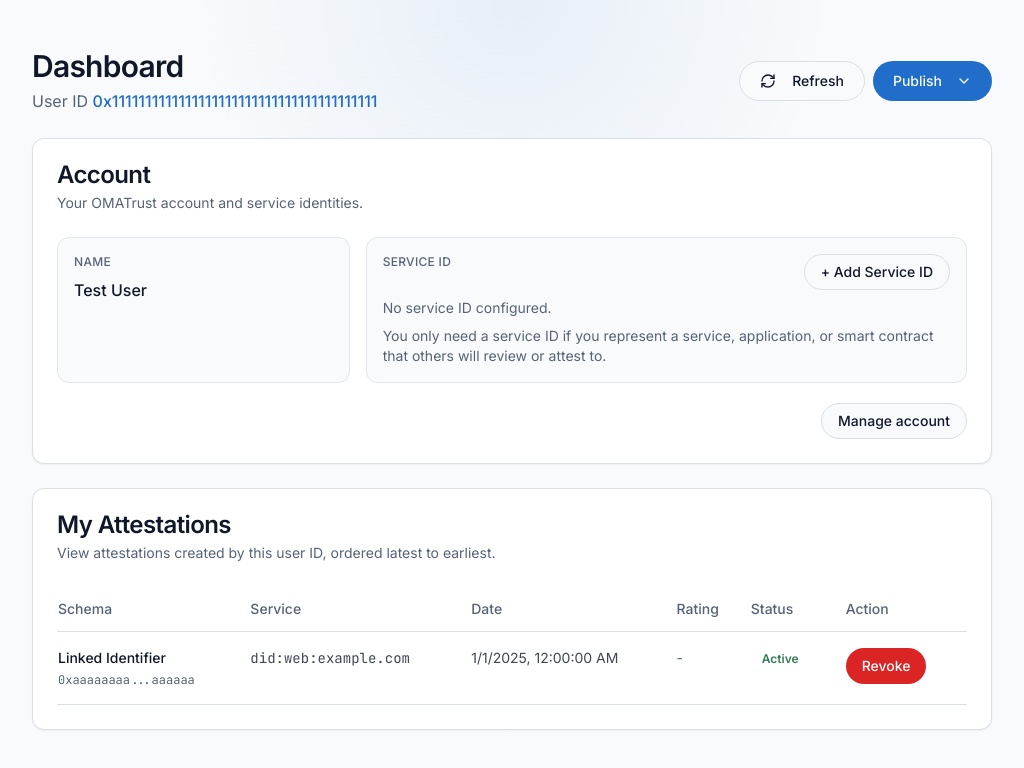
Dashboard Page › closes confirmation dialog when Cancel is clicked
Click the button "Revoke": (886,666) [846,648,926,684]
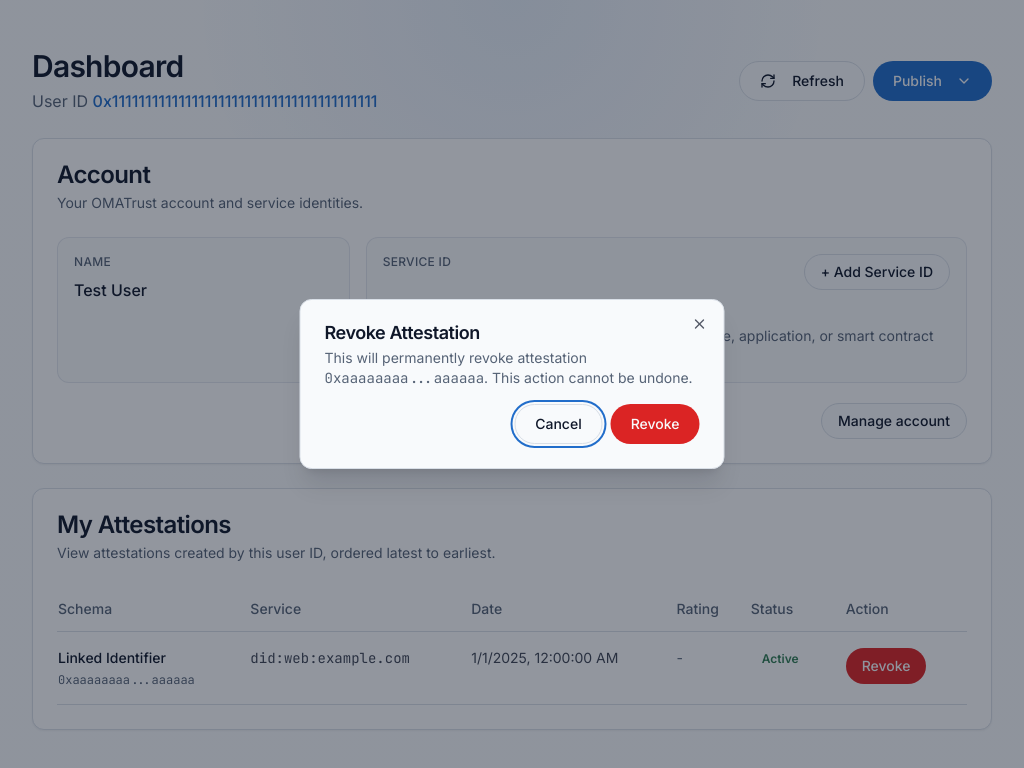
Click the button "Cancel": (558,424) [514,404,603,444]
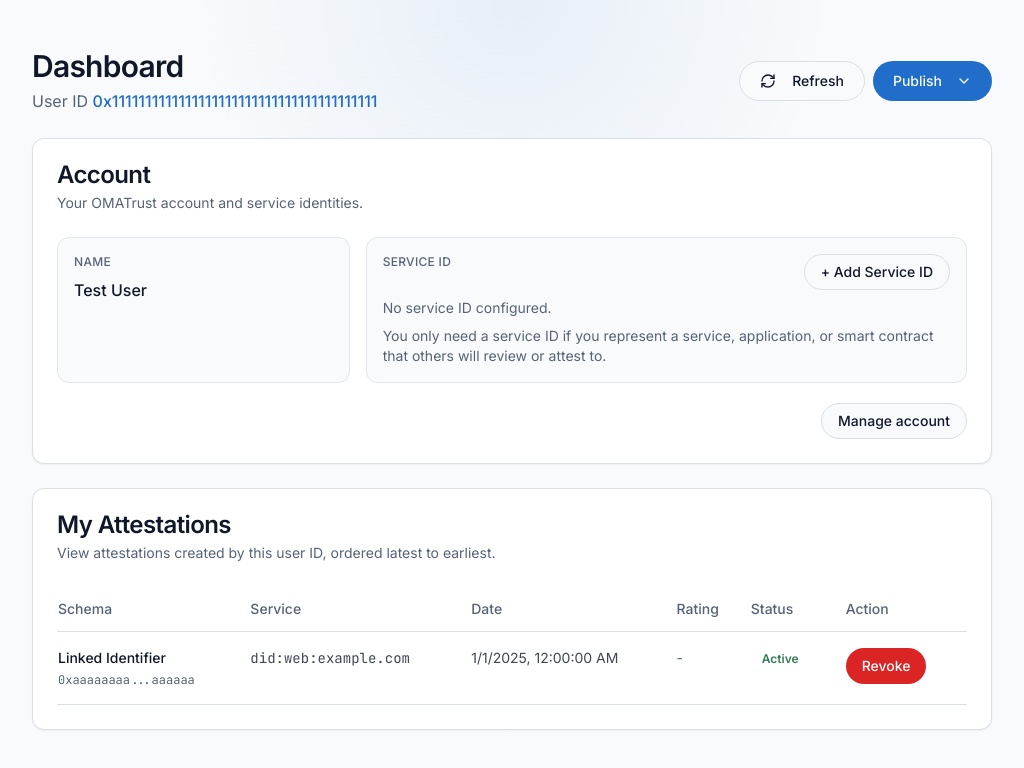
Result: the heading "Revoke Attestation" is gone
